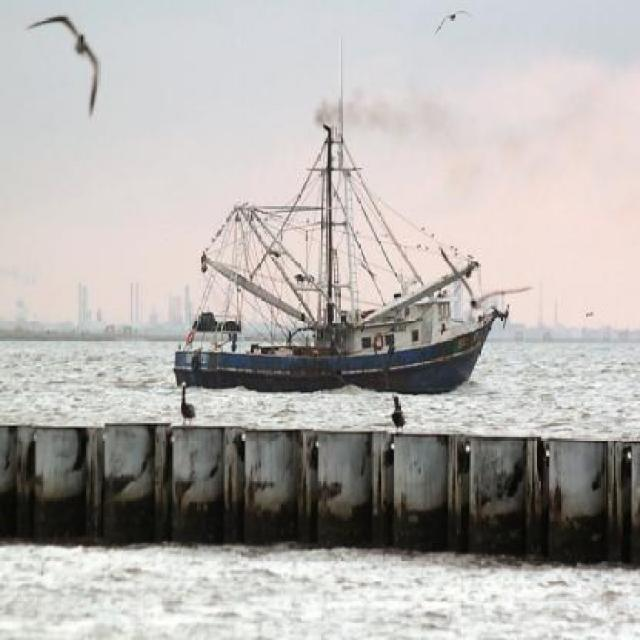ship: (149, 135, 506, 391)
